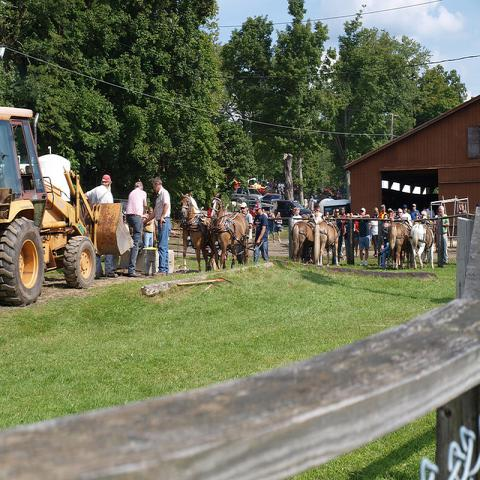car: (277, 200, 312, 216), (230, 187, 268, 201), (260, 192, 280, 209)
